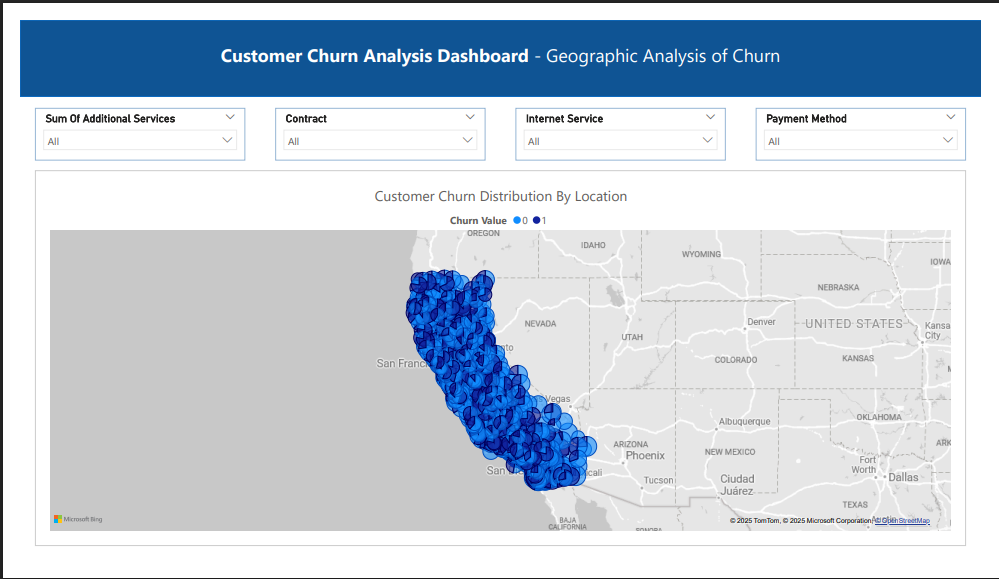

What the dashboard file says about the page in this screenshot:
{"tool":"powerbi","page":{"name":"Geographic Analysis of Churn","canvas":[1280,720],"ordinal":2},"visuals":[{"type":"shape","box":[0,0,1280.8,102],"z":0},{"type":"textbox","box":[247.1,24.7,786.7,43.3],"z":1000},{"type":"slicer","fields":{"Values":["churn_cleaned_data.Sum Of Additional Services"]},"box":[20,116.5,280,70],"z":2000},{"type":"slicer","fields":{"Values":["churn_cleaned_data.Internet Service"]},"box":[660,116.5,280,70],"z":3000},{"type":"map","title":"Customer Churn Distribution By Location","fields":{"Y":["churn_cleaned_data.Latitude"],"X":["churn_cleaned_data.Longitude"],"Size":["Sum(churn_cleaned_data.Monthly Charges)"],"Series":["churn_cleaned_data.Churn Value"]},"box":[20,200,1240,500],"z":8000},{"type":"slicer","fields":{"Values":["churn_cleaned_data.Contract"]},"box":[340,116.5,280,70],"z":8001},{"type":"slicer","fields":{"Values":["churn_cleaned_data.Payment Method"]},"box":[980,116.5,280,70],"z":8002}]}

Visuals, with their boxes in screenshot pixels (x1, y1, x2, y2), scaled from the page's 1280x720 canvas onto the 999x579 screenshot:
shape: bbox(0, 0, 998, 82)
textbox: bbox(193, 20, 807, 55)
slicer - churn_cleaned_data.Sum Of Additional Services: bbox(16, 94, 234, 150)
slicer - churn_cleaned_data.Internet Service: bbox(515, 94, 734, 150)
"Customer Churn Distribution By Location" map: bbox(16, 161, 983, 563)
slicer - churn_cleaned_data.Contract: bbox(265, 94, 484, 150)
slicer - churn_cleaned_data.Payment Method: bbox(765, 94, 983, 150)
